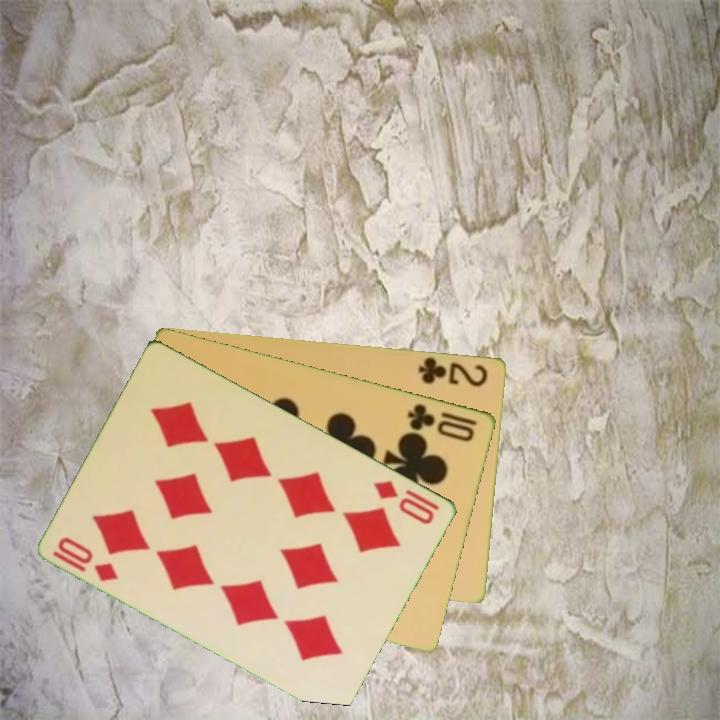10c: (404, 399, 480, 444)
10d: (49, 533, 122, 585), (370, 476, 438, 527)
2c: (415, 354, 491, 389)
